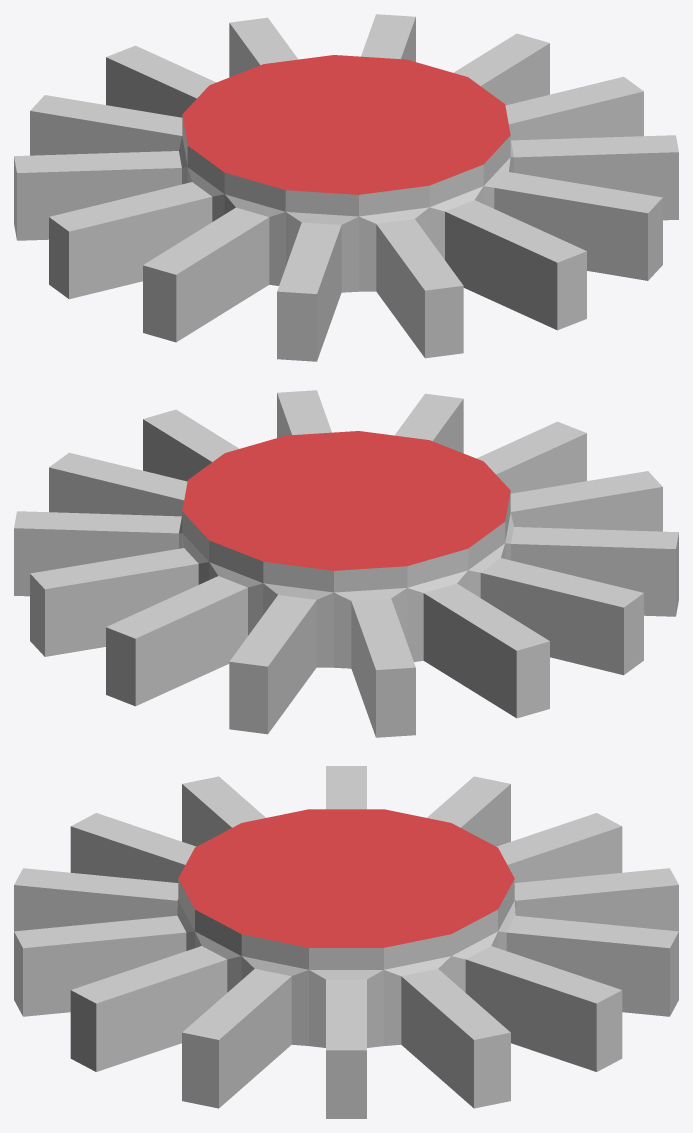
File: mainroom3.fbx
3 views of the same model, one above another, from view 1: azimuth 30°, elevation 25°; view 2: azimuth 150°, elevation 25°; view 3: azimuth 270°, elevation 25° (orthographic).
Parts seen in each view (by area): view 1: Cylinder; view 2: Cylinder; view 3: Cylinder.
Boxes of the visible parts, bbox=[...] form: Cylinder: bbox=[14, 14, 678, 361]; Cylinder: bbox=[14, 390, 678, 737]; Cylinder: bbox=[14, 766, 678, 1118].
Size of the model in its own units: 1599 by 258 by 1581.
